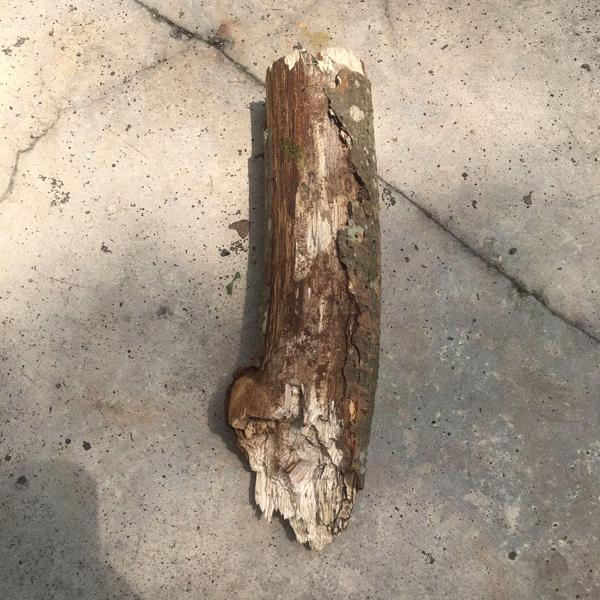Organik: (222, 40, 402, 548)
